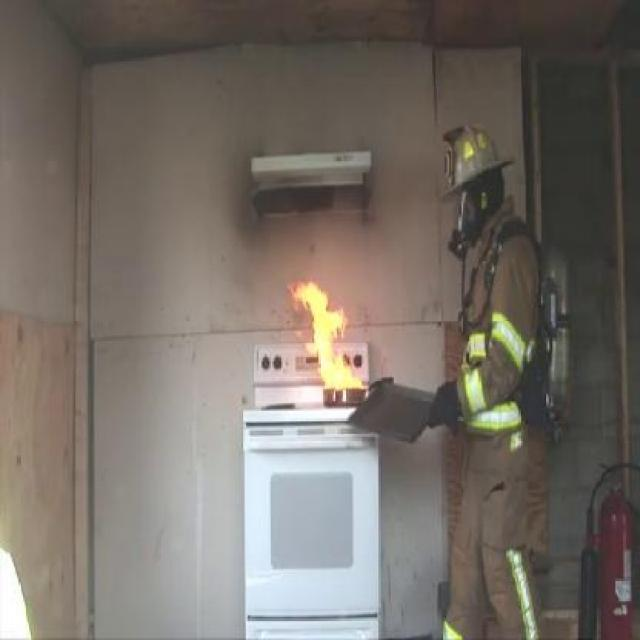fire: (282, 272, 367, 394)
